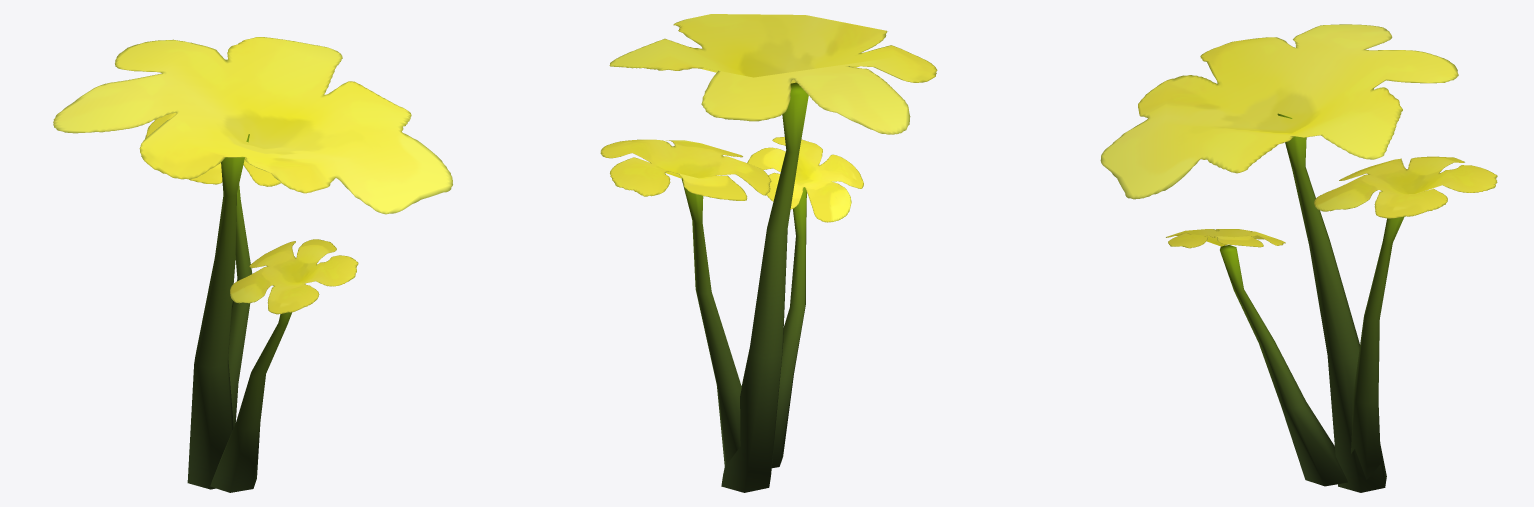
The picture shows the model from 3 angles, left to right: view 1: azimuth 30°, elevation 25°; view 2: azimuth 150°, elevation 25°; view 3: azimuth 270°, elevation 25°; orthographic projection.
Parts seen in each view (by area): view 1: Plane.091; view 2: Plane.091; view 3: Plane.091.
Boxes of the visible parts, x1,y1,x2,y2 form: Plane.091: (53, 37, 452, 492); Plane.091: (600, 14, 937, 492); Plane.091: (1100, 24, 1497, 492).
Bounding box in the file's own units: 68 × 64.58 × 67.47.
